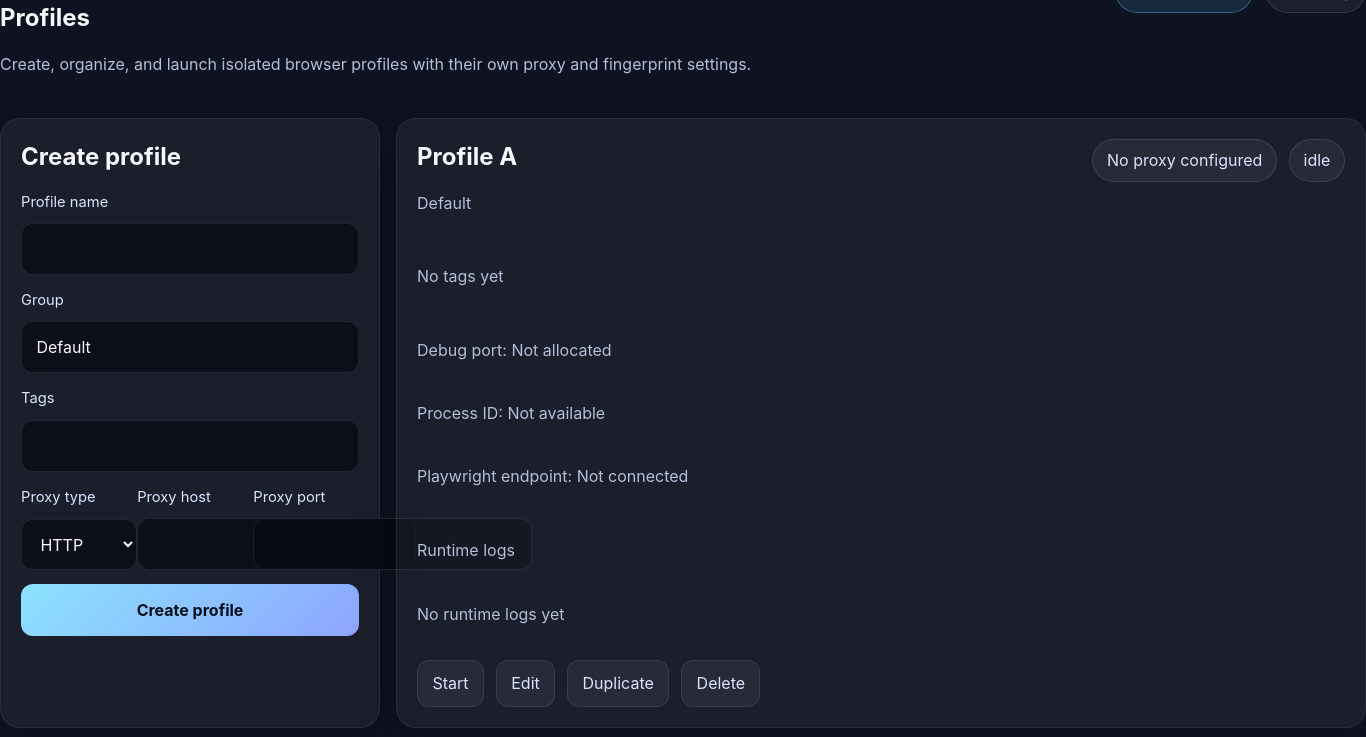
Scenario: ProfilesPage › shows the runtime adapter preview and remote debugging arg for a running profile
The image size is (1366, 737).
Step 1. Click the button with aria-label "start profile a" → (450, 684), box [417, 660, 484, 707]
(page scrolled)
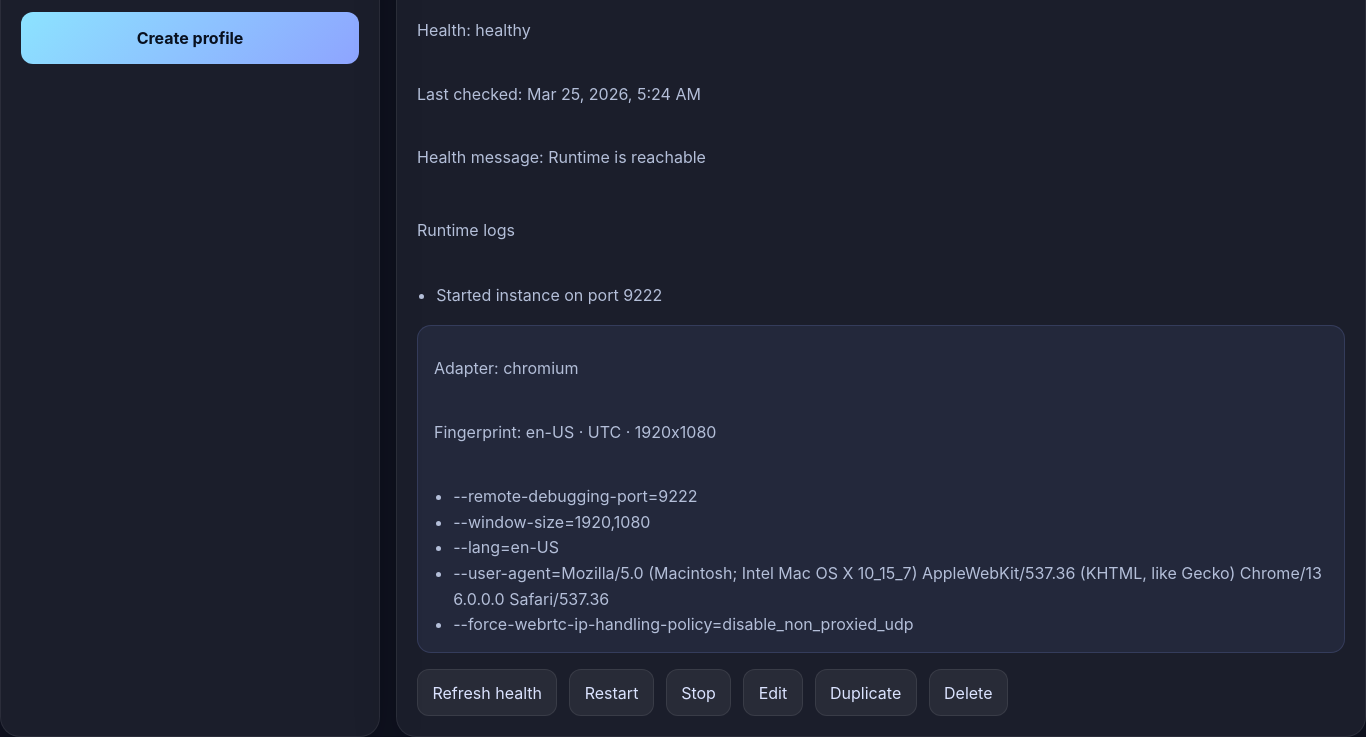
expect the text "Adapter: chromium" is shown: met, box [434, 358, 578, 378]
expect the list item "--remote-debugging-port=9222" is shown: met, box [453, 486, 698, 506]
expect the list item "--window-size=1920,1080" is shown: met, box [453, 512, 650, 532]
